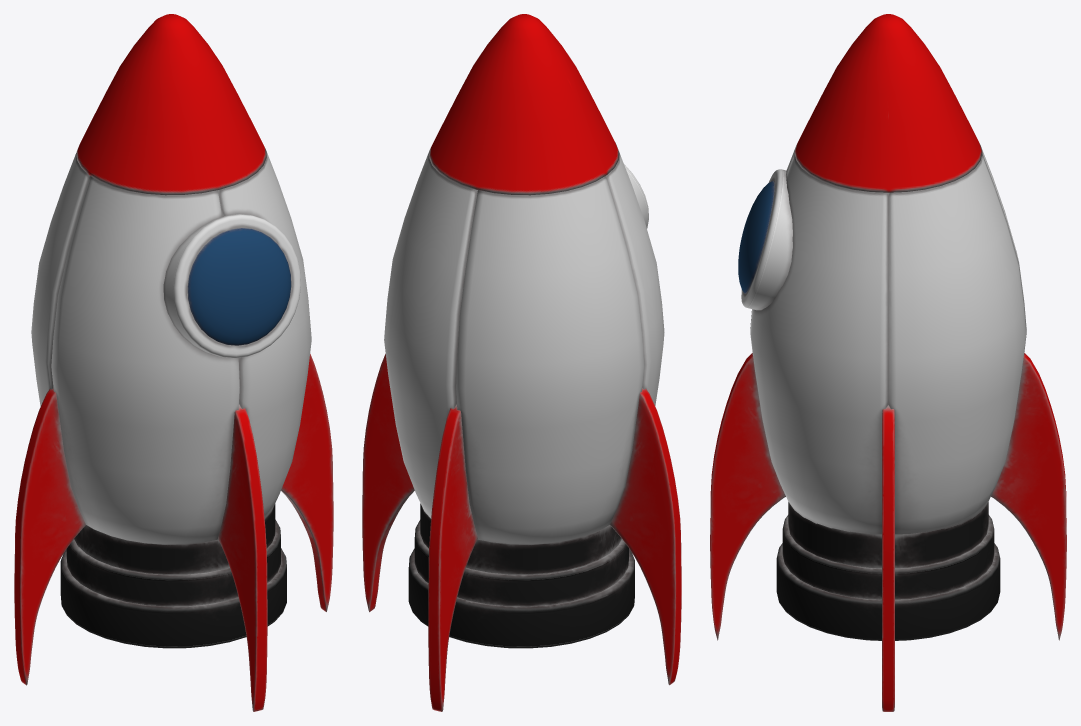
File: rocket.glb
3 renders of one model, left to right at view 1: azimuth 30°, elevation 25°; view 2: azimuth 150°, elevation 25°; view 3: azimuth 270°, elevation 25°, orthographic.
Parts seen in each view (by area): view 1: Body, Wings, Tip, Engine, Window.001, Window; view 2: Body, Wings, Tip, Engine; view 3: Body, Wings, Tip, Engine, Window, Window.001.
Boxes of the visible parts, left/top/right/bottom form: Body: left=31, top=150, right=311, bottom=544; Wings: left=14, top=354, right=333, bottom=711; Tip: left=76, top=14, right=266, bottom=195; Engine: left=60, top=504, right=286, bottom=648; Window.001: left=187, top=228, right=291, bottom=345; Window: left=163, top=213, right=300, bottom=358; Body: left=384, top=150, right=664, bottom=544; Wings: left=362, top=354, right=681, bottom=711; Tip: left=429, top=14, right=619, bottom=195; Engine: left=408, top=503, right=634, bottom=648; Body: left=750, top=147, right=1026, bottom=534; Wings: left=710, top=353, right=1066, bottom=711; Tip: left=794, top=14, right=982, bottom=192; Engine: left=776, top=502, right=1000, bottom=640; Window: left=741, top=169, right=792, bottom=310; Window.001: left=738, top=181, right=774, bottom=293.
Size of the model in its own units: 1.63 by 3.12 by 1.63.
Materials: 1 (1 with a texture image).
